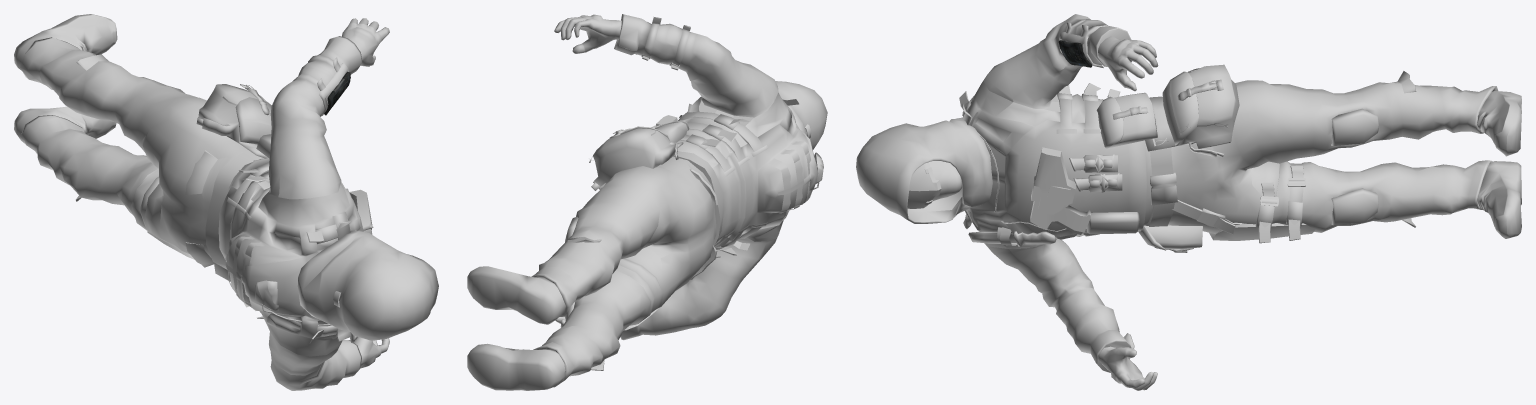
Rendered from c_mul_mp_pmc_sniper_fb_LOD0.obj.
3 views of the same model, side by side, from view 1: azimuth 30°, elevation 25°; view 2: azimuth 150°, elevation 25°; view 3: azimuth 270°, elevation 25° (orthographic). The views are drawn at different scales.
Visible parts, largest first — view 1: mtl_c_mul_mp_pmc_snip_gear, mtl_c_mul_mp_pmc_lbr_2_1, mtl_c_mul_mp_pmc_upperbody2, mtl_c_mul_mp_pmc_gear_main_1, mtl_c_mul_mp_pmc_gloves2, mtl_c_gen_mp_datapad; view 2: mtl_c_mul_mp_pmc_lbr_2_1, mtl_c_mul_mp_pmc_snip_gear, mtl_c_mul_mp_pmc_upperbody2, mtl_c_mul_mp_pmc_gear_main_1, mtl_c_mul_mp_pmc_gloves2; view 3: mtl_c_mul_mp_pmc_snip_gear, mtl_c_mul_mp_pmc_lbr_2_1, mtl_c_mul_mp_pmc_upperbody2, mtl_c_mul_mp_pmc_gear_main_1, mtl_c_mul_mp_pmc_gloves2, mtl_c_gen_mp_datapad.
Boxes of the visible parts, x1,y1,x2,y2 form: mtl_c_mul_mp_pmc_snip_gear: [196, 36, 438, 390]; mtl_c_mul_mp_pmc_lbr_2_1: [20, 37, 247, 267]; mtl_c_mul_mp_pmc_upperbody2: [218, 158, 363, 356]; mtl_c_mul_mp_pmc_gear_main_1: [14, 14, 357, 343]; mtl_c_mul_mp_pmc_gloves2: [342, 18, 389, 368]; mtl_c_gen_mp_datapad: [324, 71, 350, 115]; mtl_c_mul_mp_pmc_lbr_2_1: [531, 156, 718, 387]; mtl_c_mul_mp_pmc_snip_gear: [589, 14, 827, 340]; mtl_c_mul_mp_pmc_upperbody2: [676, 92, 818, 258]; mtl_c_mul_mp_pmc_gear_main_1: [467, 152, 823, 390]; mtl_c_mul_mp_pmc_gloves2: [554, 14, 621, 327]; mtl_c_mul_mp_pmc_snip_gear: [856, 14, 1239, 372]; mtl_c_mul_mp_pmc_lbr_2_1: [1168, 71, 1498, 243]; mtl_c_mul_mp_pmc_upperbody2: [959, 77, 1153, 248]; mtl_c_mul_mp_pmc_gear_main_1: [968, 91, 1521, 246]; mtl_c_mul_mp_pmc_gloves2: [1098, 36, 1158, 390]; mtl_c_gen_mp_datapad: [1058, 40, 1092, 67].
Bounding box in the file's own units: 67.3 × 105 × 185.
